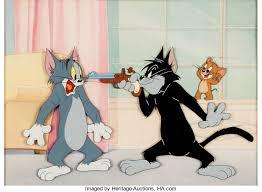tom: (20, 45, 114, 182)
